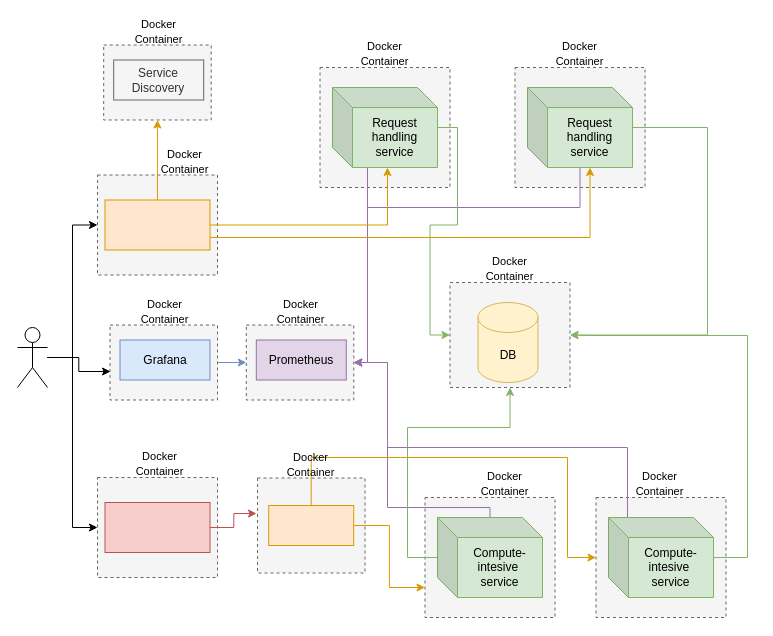
Some shapes in this 773 by 636 pixel diagram are drawn without their labels. Here are the shapes that lost their labels. From the top down, the centre of each, then its label:
pixel 157 224: Nginx
pixel 32 357: User
pixel 157 527: Web API
pixel 311 525: RabbitMQ
